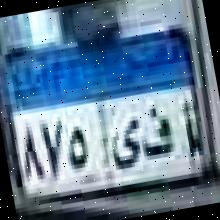5: (63, 126, 94, 174)
7: (36, 114, 70, 184)
8: (14, 116, 47, 190)
alif: (178, 100, 202, 162)
faa: (138, 104, 180, 164)
yaa: (102, 112, 148, 174)
